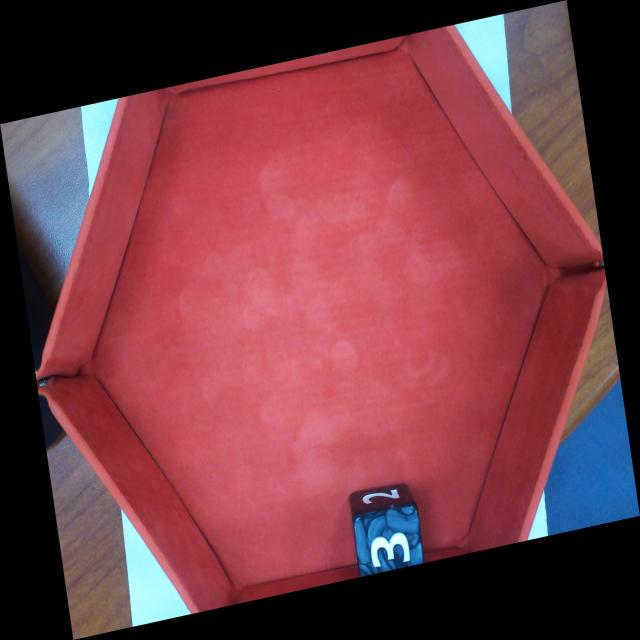dice: (351, 500, 425, 577)
